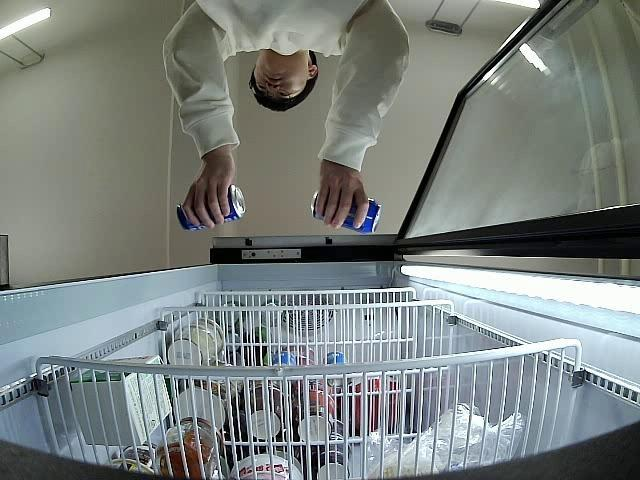13_pocariSweat: (310, 188, 381, 234), (178, 182, 247, 229)
